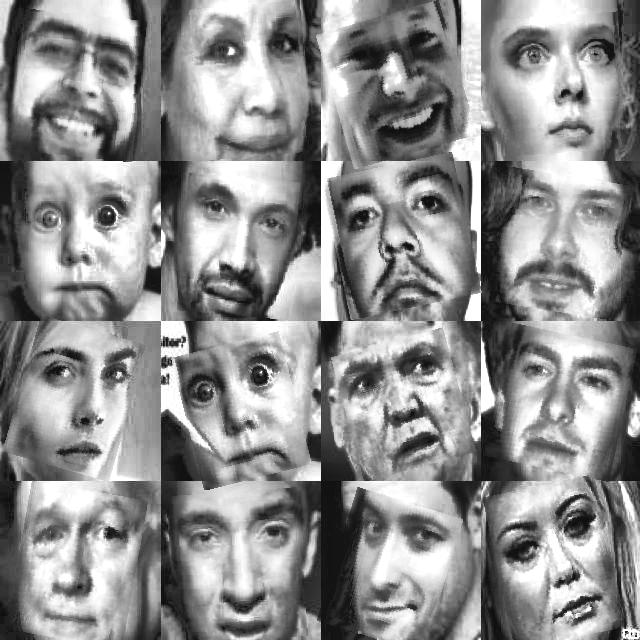angry: (491, 329, 631, 477), (10, 322, 138, 476), (339, 334, 469, 475)
fear: (11, 484, 142, 640), (179, 336, 304, 484), (497, 13, 625, 154), (15, 175, 147, 311)
happy: (325, 8, 469, 162), (494, 172, 628, 316), (325, 493, 454, 640), (15, 12, 143, 160), (192, 3, 309, 159)
neutral: (328, 158, 476, 314), (180, 176, 298, 318)
sad: (490, 479, 619, 640), (168, 489, 305, 640)
